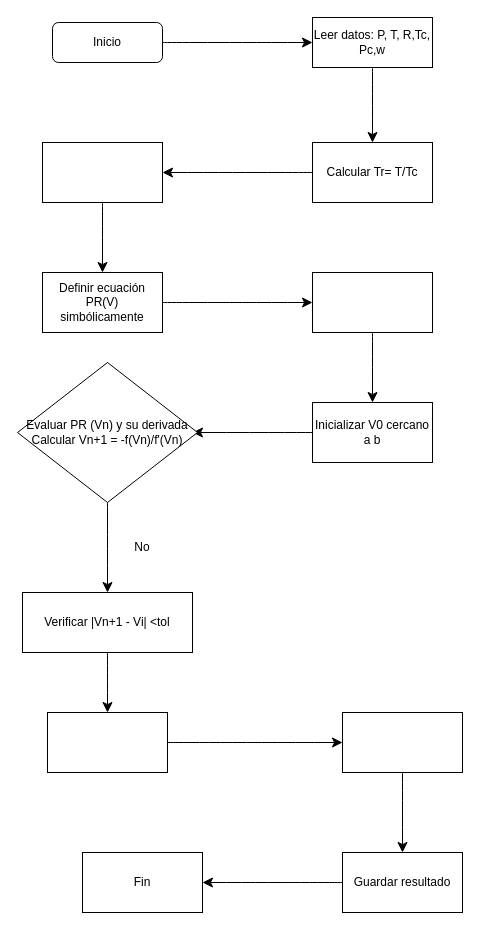
Some shapes in this 480 by 930 pixel diagram are drawn without their labels. Here are the shapes that lost their labels. From the top down, the centre of each, then its label:
(102,172): Calcular kappa, alpha, a y b (Peng-Robinson)
(372,302): Fijar tolerancia y máximo de iteraciones
(107,742): Convertir V(m^3/mol) a V(m^3/kg)
(402,742): Comparar con valor experimental
